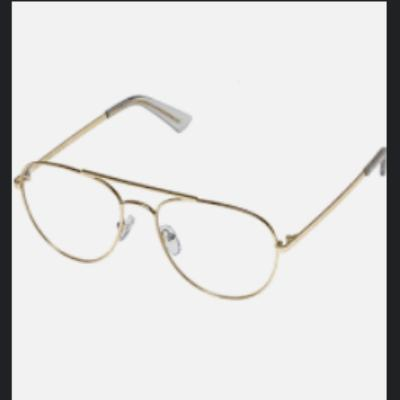glasses: (14, 92, 384, 307)
